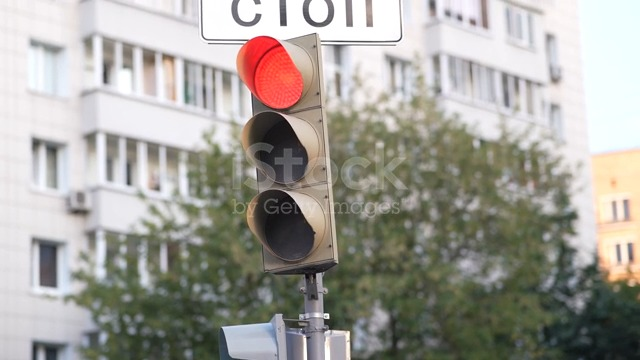red traffic light: (225, 31, 348, 274)
